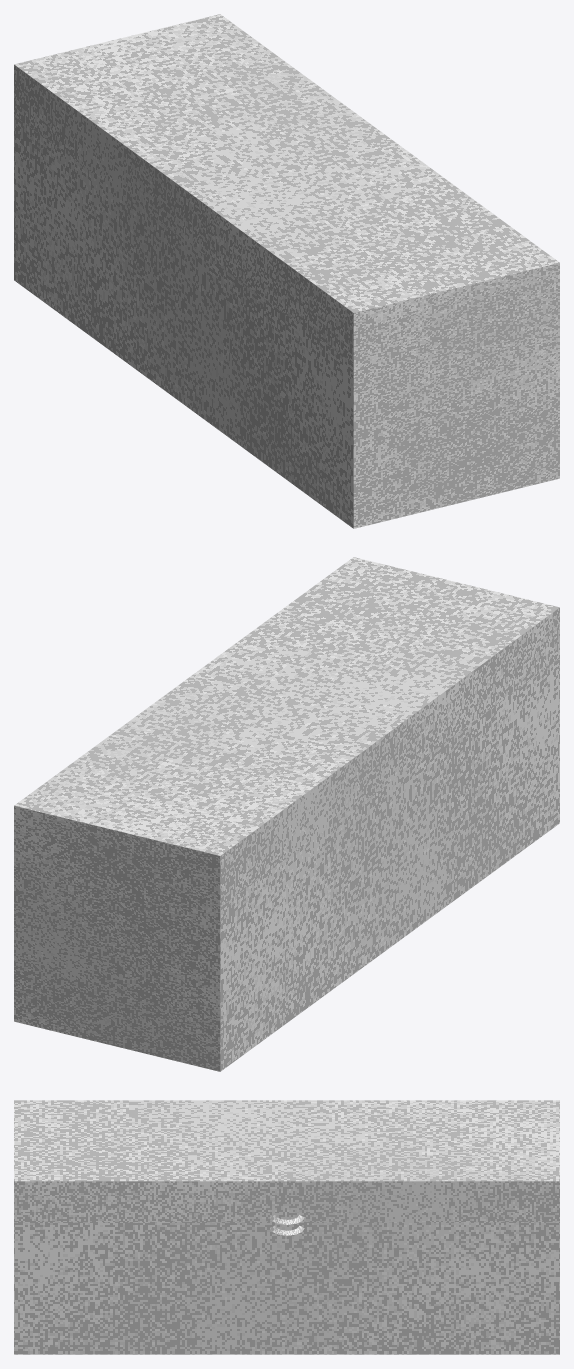
3 renders of one model, top to bottom at view 1: azimuth 30°, elevation 25°; view 2: azimuth 150°, elevation 25°; view 3: azimuth 270°, elevation 25°, orthographic. The views are drawn at different scales.
Parts seen in each view (by area): view 1: Torus, Box; view 2: Torus, Box; view 3: Box, Torus.
Boxes of the visible parts, left/top/right/bottom form: Torus: left=14, top=14, right=559, bottom=363; Box: left=14, top=115, right=559, bottom=528; Torus: left=14, top=557, right=559, bottom=906; Box: left=14, top=658, right=559, bottom=1071; Box: left=14, top=1222, right=559, bottom=1354; Torus: left=14, top=1100, right=559, bottom=1235.
Size of the model in its own units: 2.19 by 2 by 5.7.
1 material, 1 textured.
